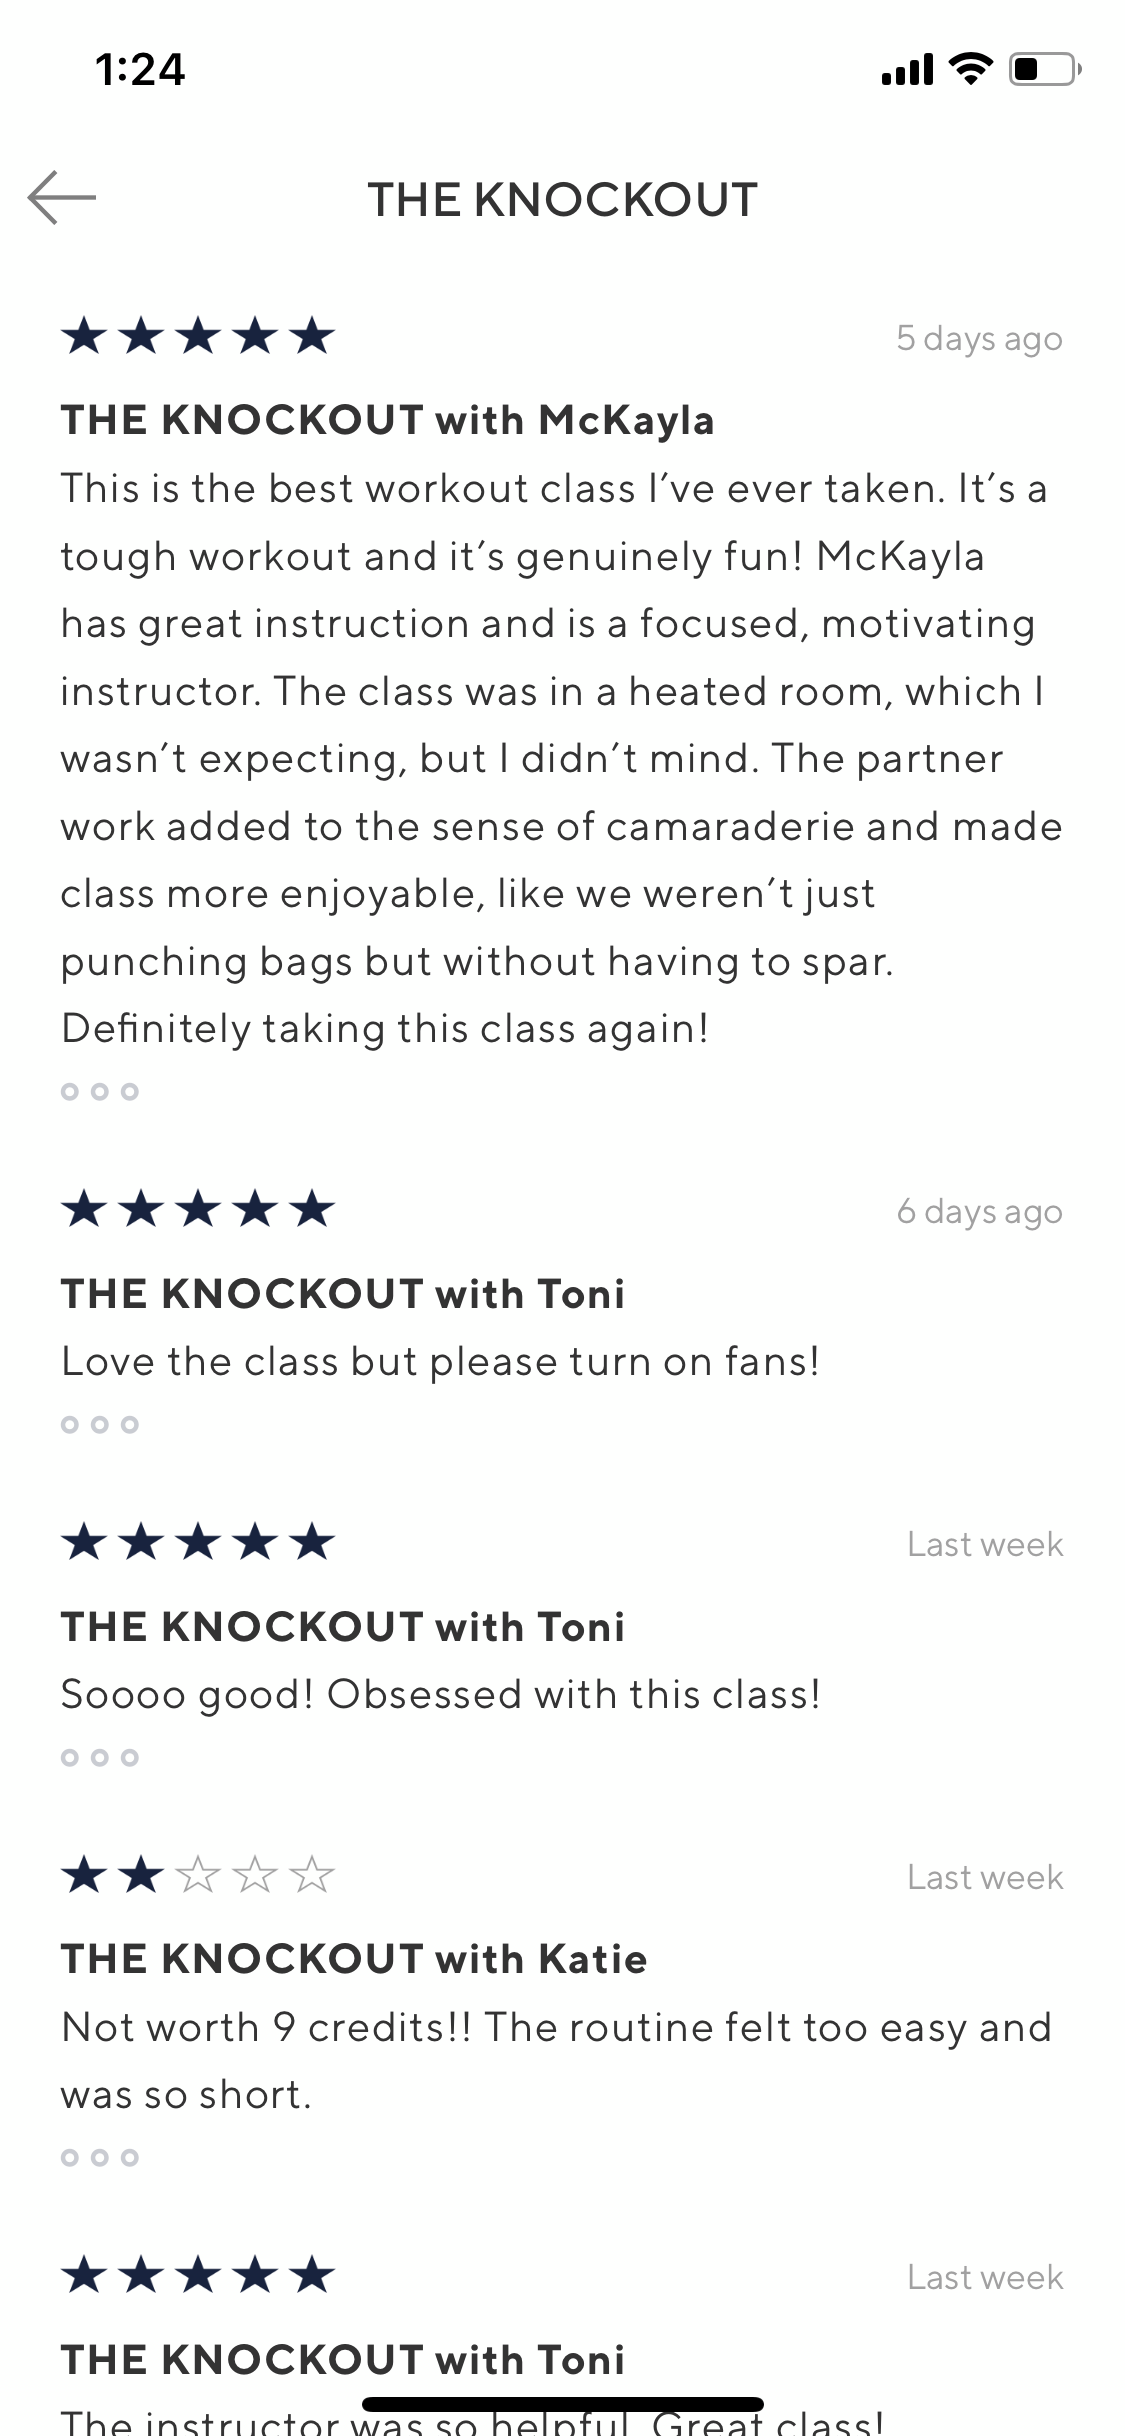Buttons: (2, 134, 129, 259), (37, 2110, 165, 2200), (36, 1718, 165, 1801), (37, 1383, 165, 1463), (36, 1058, 162, 1137)
Rating: (42, 1822, 387, 1926), (44, 1487, 382, 1589), (40, 1151, 382, 1251), (37, 287, 382, 379), (44, 2234, 388, 2324)
